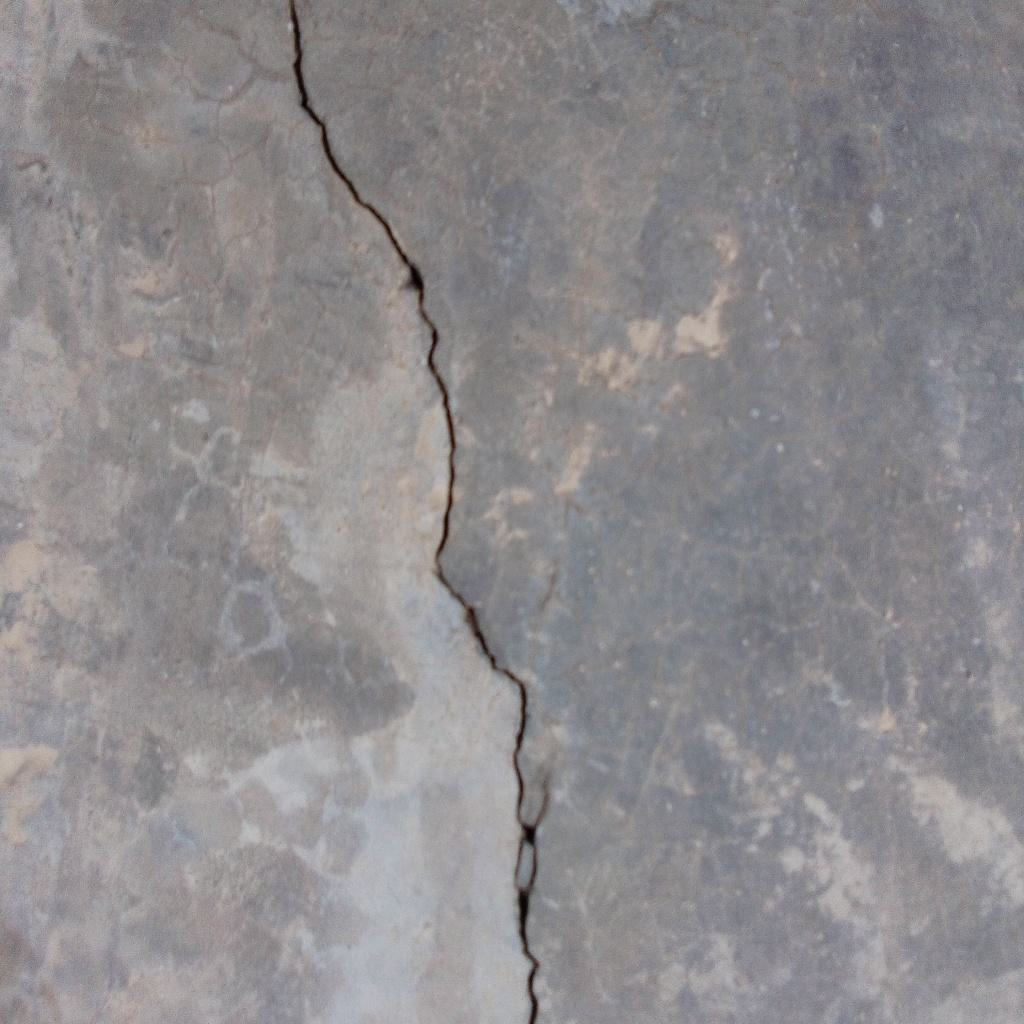Crack: (288, 1, 550, 1024)
